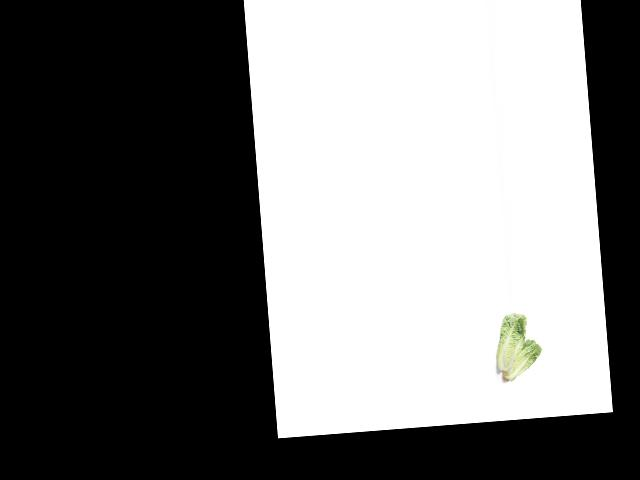lettuce: (498, 338, 544, 385)
